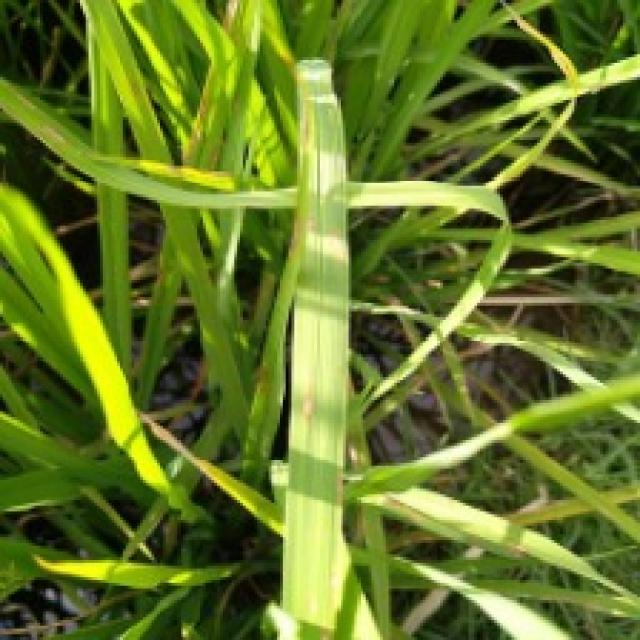Unhealthy: (396, 481, 572, 640), (181, 0, 243, 171), (145, 414, 204, 466), (40, 122, 71, 153), (304, 388, 316, 430), (208, 144, 224, 174)
